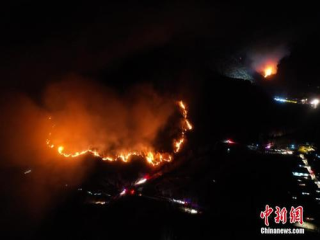fire: (39, 138, 174, 167), (172, 95, 197, 166), (257, 60, 280, 85)
